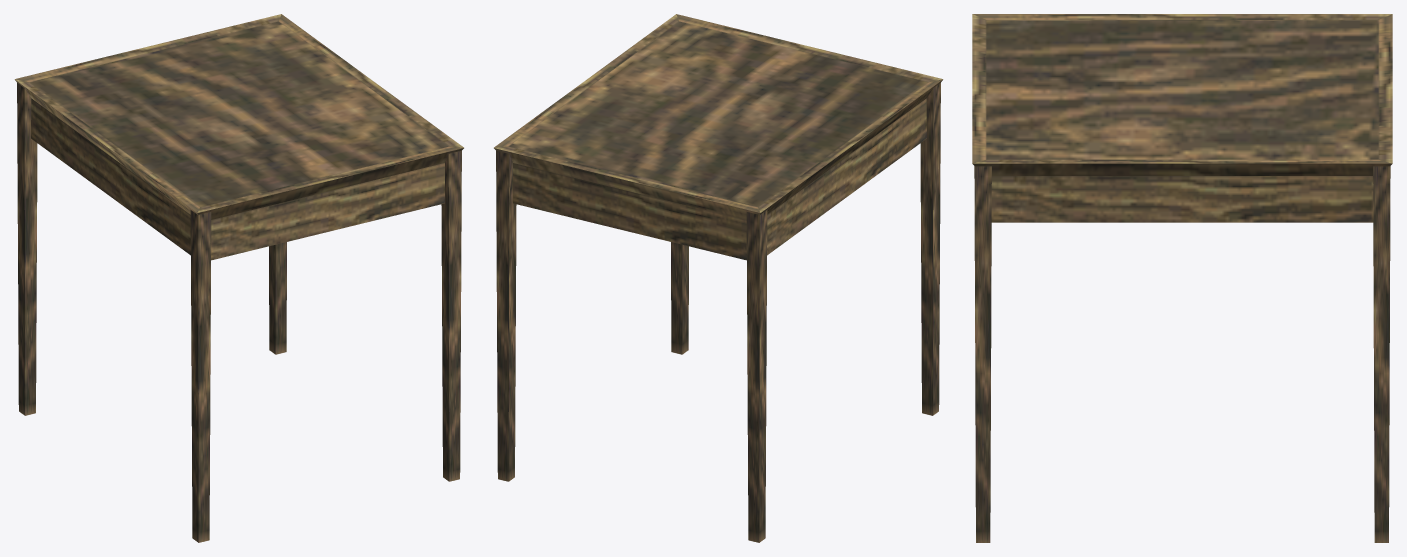
Rendered from glassendtable2.fbx.
3 views of the same model, side by side, from view 1: azimuth 30°, elevation 25°; view 2: azimuth 150°, elevation 25°; view 3: azimuth 270°, elevation 25° (orthographic). The views are drawn at different scales.
Parts seen in each view (by area): view 1: mesh_0; view 2: mesh_0; view 3: mesh_0.
Part boxes in pixels (box(x1,y1,x2,y2)): mesh_0: box(14, 14, 463, 542); mesh_0: box(494, 14, 943, 542); mesh_0: box(972, 14, 1392, 542).
Size of the model in its own units: 50.59 by 60 by 60.
Materials: 1 (1 with a texture image).
